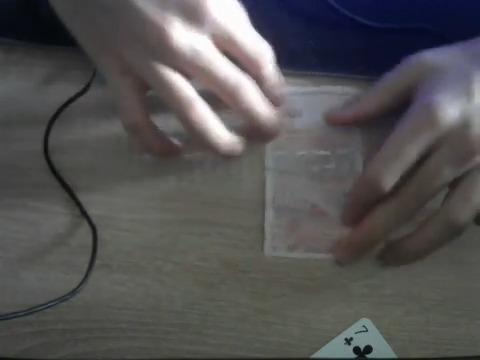5leva: (261, 73, 369, 262)
